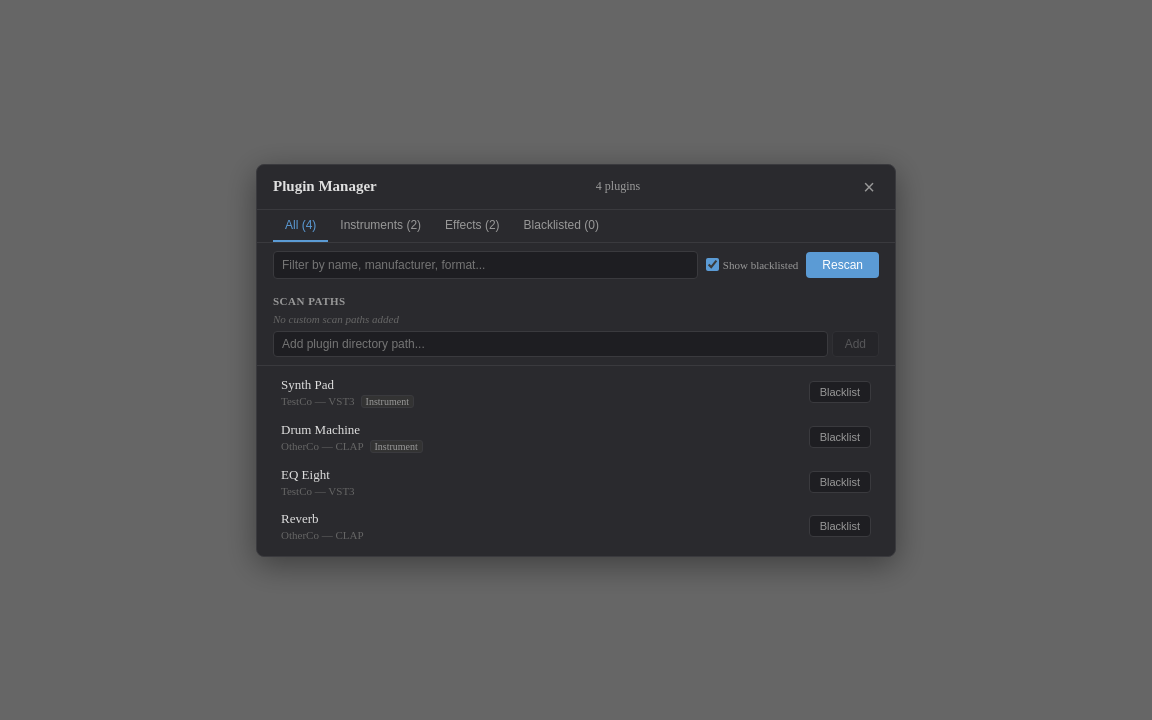
it: PluginManagerDialog › search and filter › Instruments tab shows only instruments
Expected: the text "Synth Pad" is shown, [281,376,334,392]
Click the button "Instruments (2)" at point(381, 226), box [328,210,433,242]
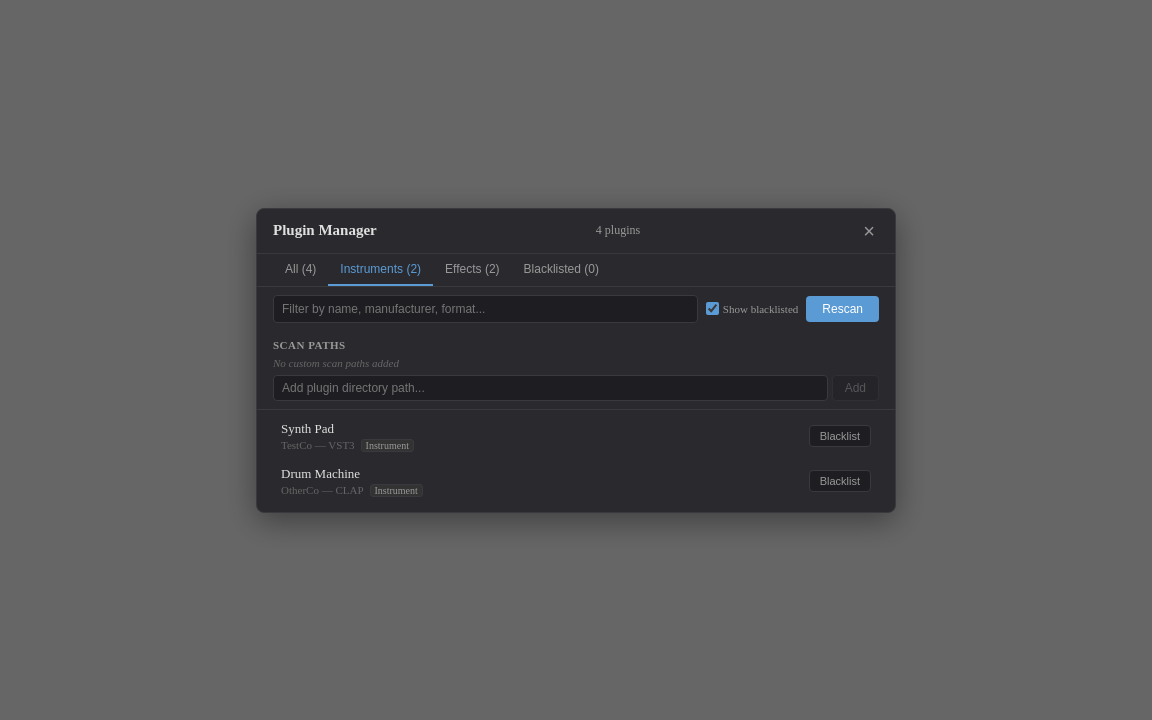
Expected: the text "Synth Pad" is shown, [281,420,334,436]
Now the text "EQ Eight" is gone
Now the text "Reverb" is gone
